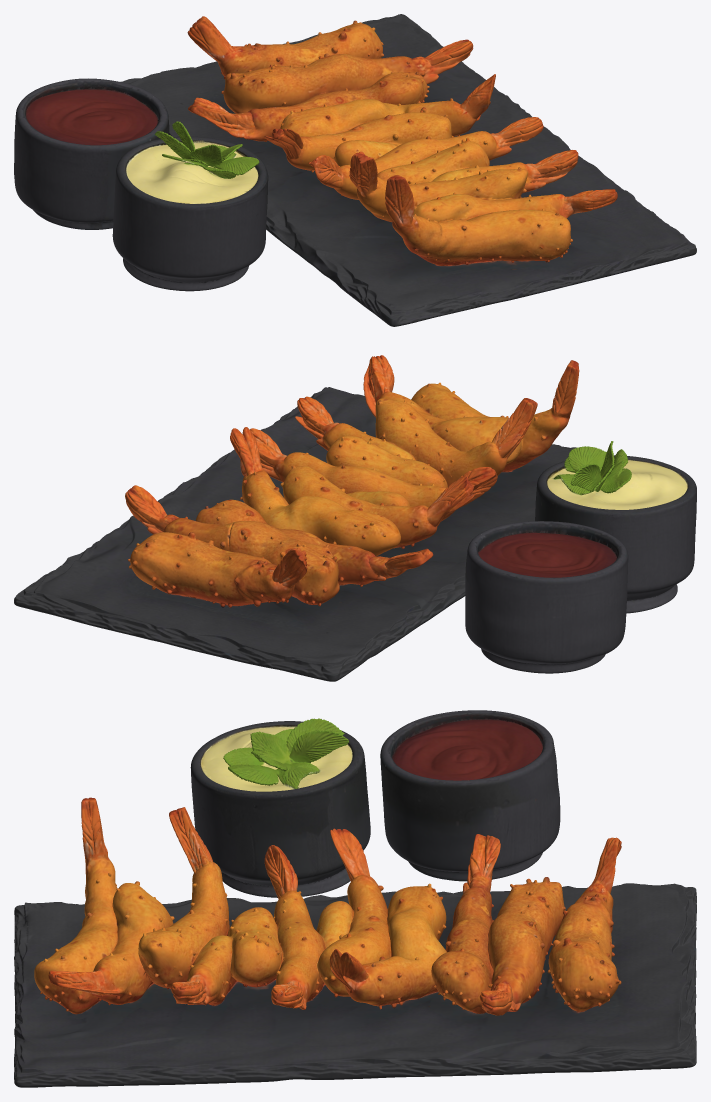
File: Tempura.glb
3 renders of one model, top to bottom at view 1: azimuth 30°, elevation 25°; view 2: azimuth 150°, elevation 25°; view 3: azimuth 270°, elevation 25°, orthographic. The views are drawn at different scales.
Parts seen in each view (by area): view 1: tripo_node_ea5cac03-d595-4eed-8341-495d43faed3d; view 2: tripo_node_ea5cac03-d595-4eed-8341-495d43faed3d; view 3: tripo_node_ea5cac03-d595-4eed-8341-495d43faed3d.
Boxes of the visible parts, <box> form: tripo_node_ea5cac03-d595-4eed-8341-495d43faed3d: <box>14,14,696,326</box>; tripo_node_ea5cac03-d595-4eed-8341-495d43faed3d: <box>14,355,696,681</box>; tripo_node_ea5cac03-d595-4eed-8341-495d43faed3d: <box>14,710,696,1087</box>.
Bounding box in the file's own units: 0.272 × 0.0696 × 0.2934.
Materials: 1 (1 with a texture image).
